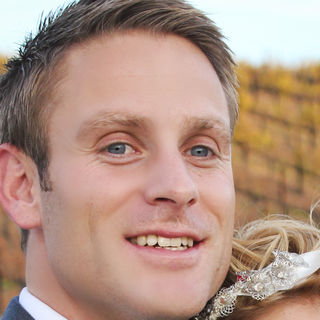eye: (90, 130, 149, 168), (175, 130, 225, 169)
